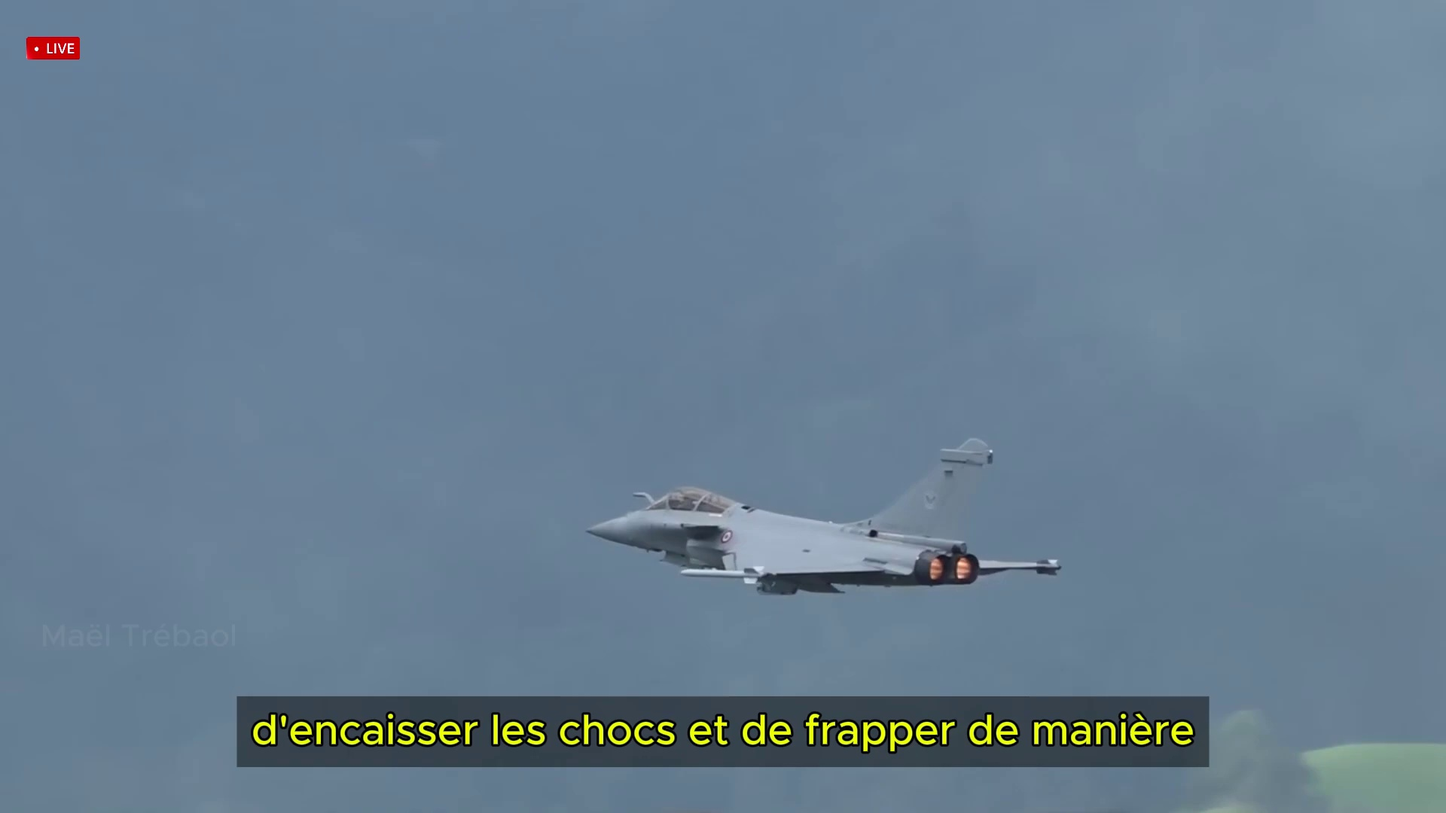Rafale: (589, 444, 1060, 597)
